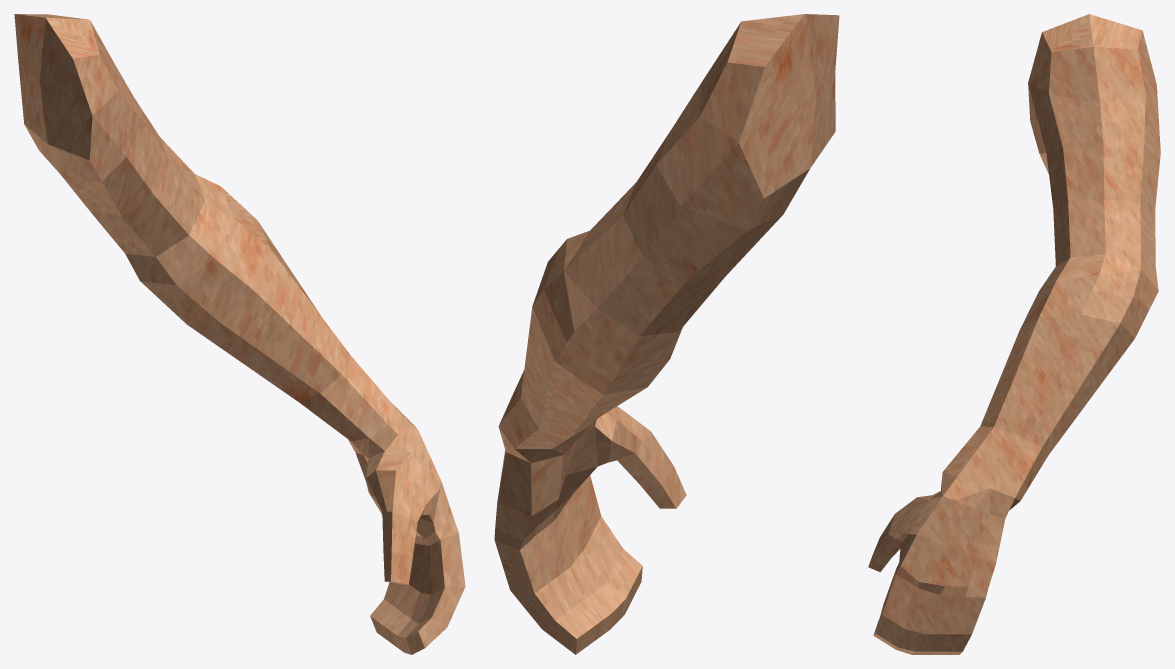
File: lefthand.glb
The picture shows the model from 3 angles, left to right: view 1: azimuth 30°, elevation 25°; view 2: azimuth 150°, elevation 25°; view 3: azimuth 270°, elevation 25°; orthographic projection. The views are drawn at different scales.
Visible parts, largest first — view 1: Armp; view 2: Armp; view 3: Armp.
Part boxes in pixels (x1,y1,x2,y2): Armp: [14, 14, 465, 654]; Armp: [494, 14, 839, 654]; Armp: [868, 14, 1160, 654].
Size of the model in its own units: 0.2451 by 0.4642 by 0.2306.
Materials: 1 (1 with a texture image).
